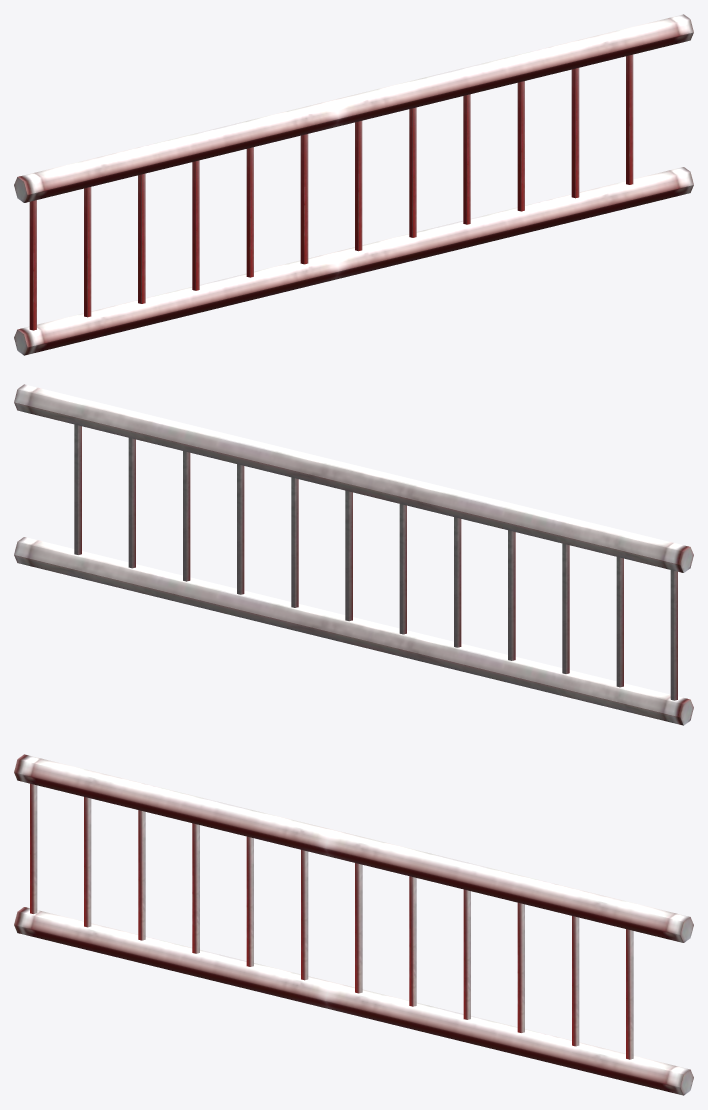
The model's file is cb28d4f1-80d9-45dd-857f-797722a0fddc.glb.
3 renders of one model, top to bottom at view 1: azimuth 30°, elevation 25°; view 2: azimuth 150°, elevation 25°; view 3: azimuth 330°, elevation 25°, orthographic.
Visible parts, largest first — view 1: railing; view 2: railing; view 3: railing.
Part boxes in pixels (left/top/right/bottom): railing: left=14, top=14, right=693, bottom=355; railing: left=14, top=384, right=693, bottom=725; railing: left=14, top=754, right=693, bottom=1095.
Size of what is drawn, in the model's own units: 6.42 by 1.6 by 0.2261.
1 material, 1 textured.
